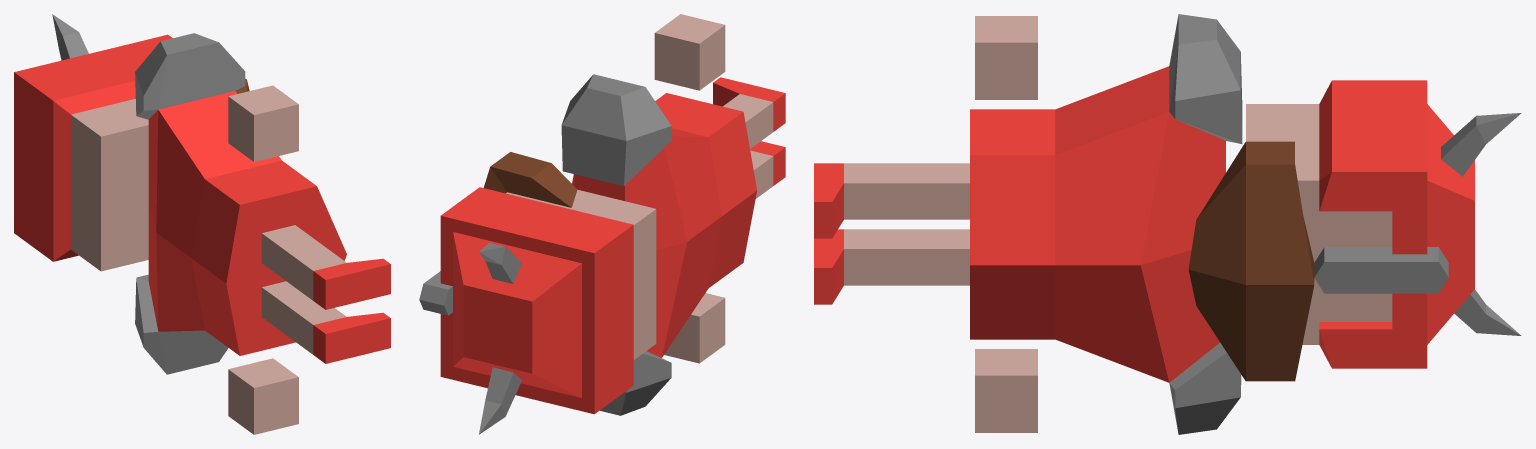
The model's file is playerNoHammer_1.fbx.
The picture shows the model from 3 angles, left to right: view 1: azimuth 30°, elevation 25°; view 2: azimuth 150°, elevation 25°; view 3: azimuth 270°, elevation 25°; orthographic projection. The views are drawn at different scales.
Parts seen in each view (by area): view 1: Character; view 2: Character; view 3: Character.
Boxes of the visible parts, left/top/right/bottom form: Character: left=14, top=14, right=390, bottom=434; Character: left=419, top=14, right=785, bottom=434; Character: left=814, top=14, right=1521, bottom=434.
Size of the model in its own units: 202 by 345 by 567.
